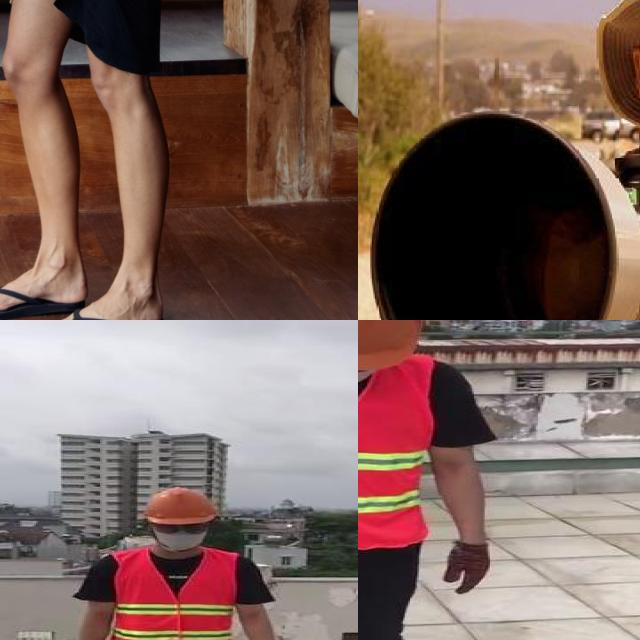Sandals: (0, 250, 86, 320), (44, 291, 163, 320)
face_mask: (152, 518, 214, 552)
glasses: (150, 518, 210, 536)
hand_glove: (446, 542, 492, 597)
head_helmet: (358, 320, 425, 373), (144, 488, 218, 526)
person: (475, 0, 640, 320), (358, 320, 508, 640), (70, 484, 301, 640)
vest: (358, 351, 431, 550), (109, 548, 237, 640)
